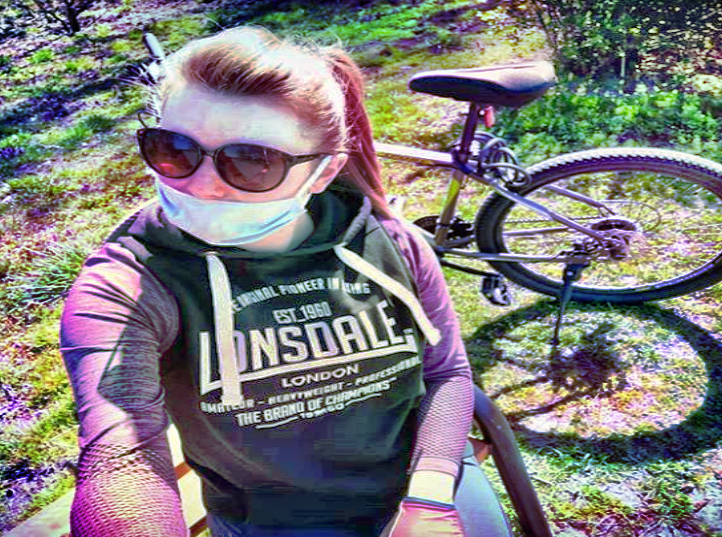mask_weared_incorrect: (131, 30, 359, 249)
